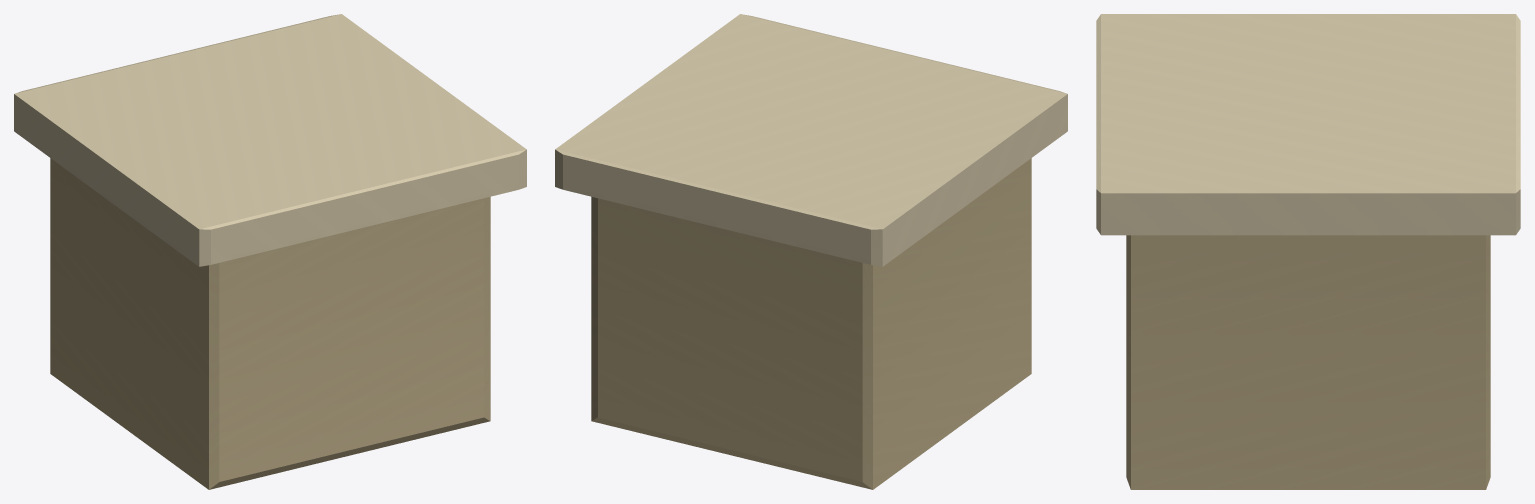
File: SM_WC_BoardCorner.fbx
3 views of the same model, side by side, from view 1: azimuth 30°, elevation 25°; view 2: azimuth 150°, elevation 25°; view 3: azimuth 270°, elevation 25° (orthographic). The views are drawn at different scales.
Visible parts, largest first — view 1: SM_WC_BoardCorner; view 2: SM_WC_BoardCorner; view 3: SM_WC_BoardCorner.
Boxes of the visible parts, x1,y1,x2,y2 form: SM_WC_BoardCorner: (14, 14, 526, 489); SM_WC_BoardCorner: (555, 14, 1067, 489); SM_WC_BoardCorner: (1096, 14, 1520, 489).
Size of the model in its own units: 0.64 by 0.64 by 0.515.
